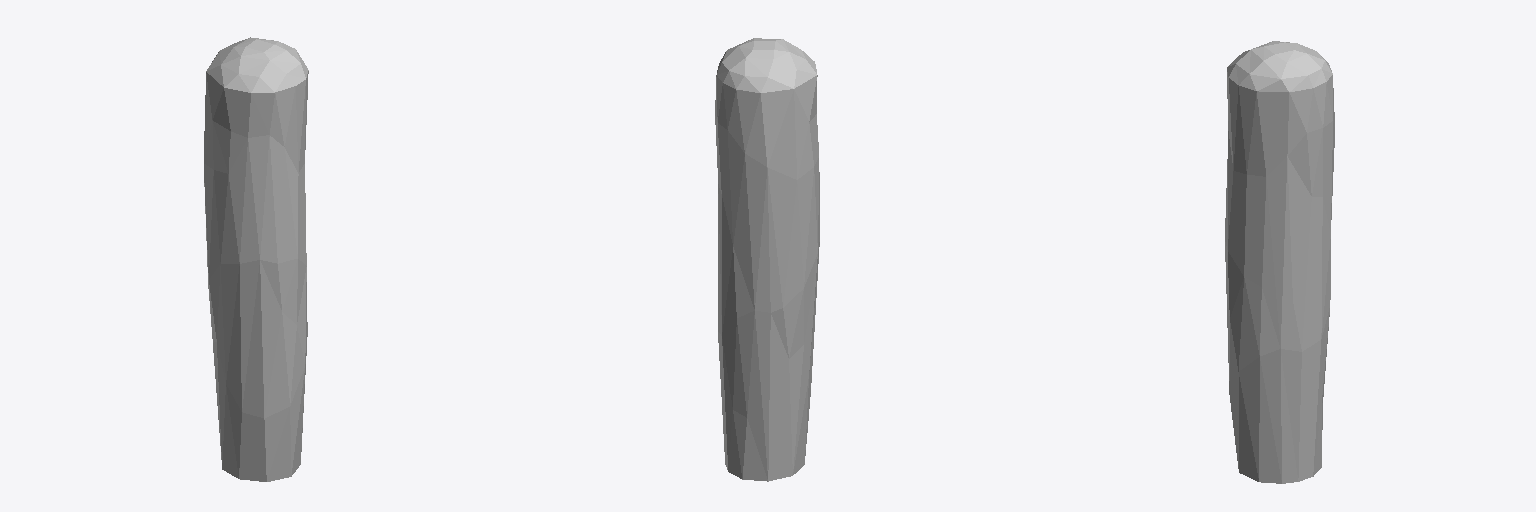
The model's file is Cactus02.obj.
3 renders of one model, left to right at view 1: azimuth 30°, elevation 25°; view 2: azimuth 150°, elevation 25°; view 3: azimuth 270°, elevation 25°, orthographic.
Parts seen in each view (by area): view 1: Cylinder; view 2: Cylinder; view 3: Cylinder.
Part boxes in pixels (x1,y1,x2,y2): Cylinder: (204, 37, 308, 481); Cylinder: (715, 38, 819, 481); Cylinder: (1225, 41, 1334, 483).
Size of the model in its own units: 0.6876 by 3.11 by 0.7437.